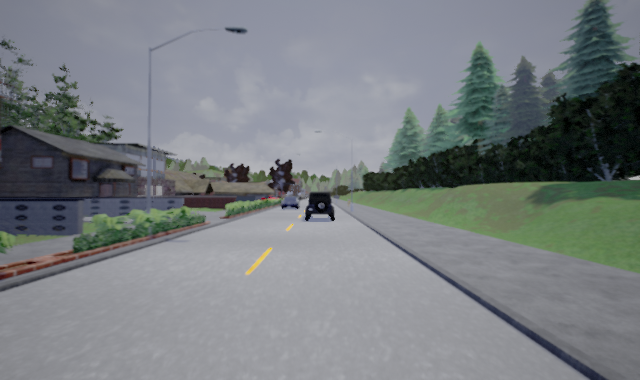vehicle: (304, 191, 334, 221), (281, 196, 301, 210)
